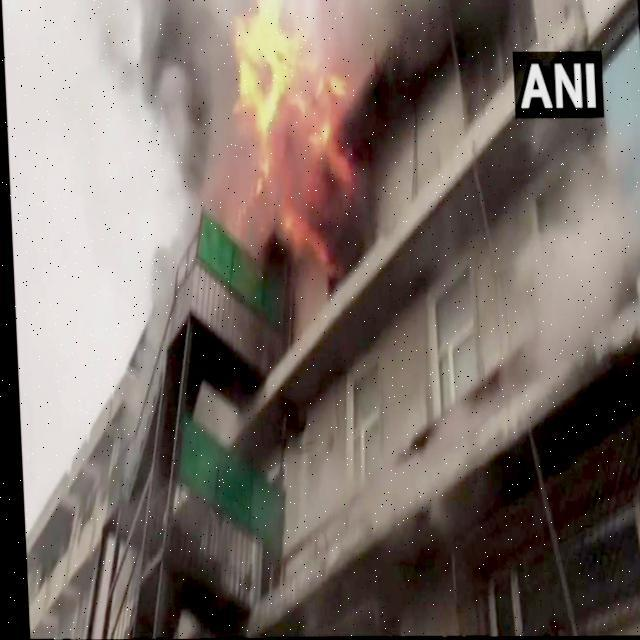Fire: (208, 12, 375, 292)
